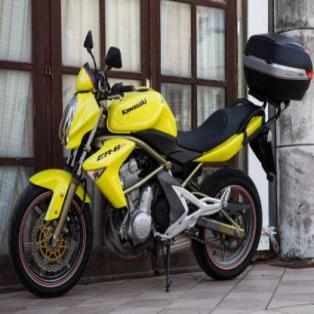Motocicleta: (7, 20, 314, 299)
